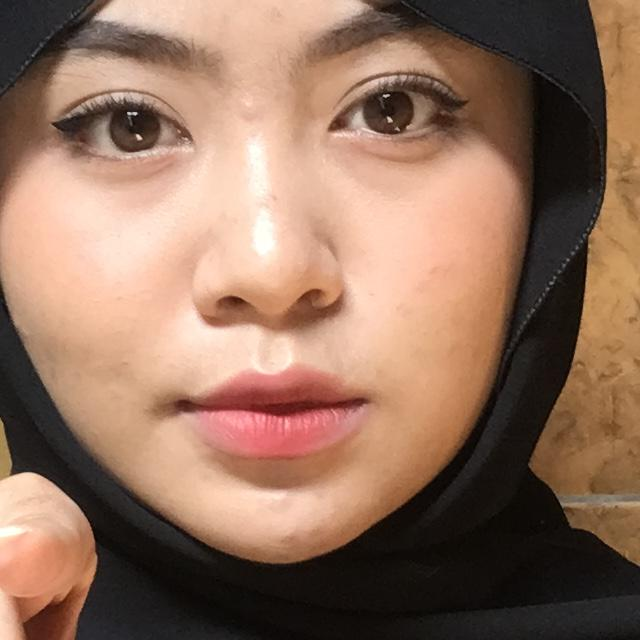kamu: (0, 366, 400, 640)
